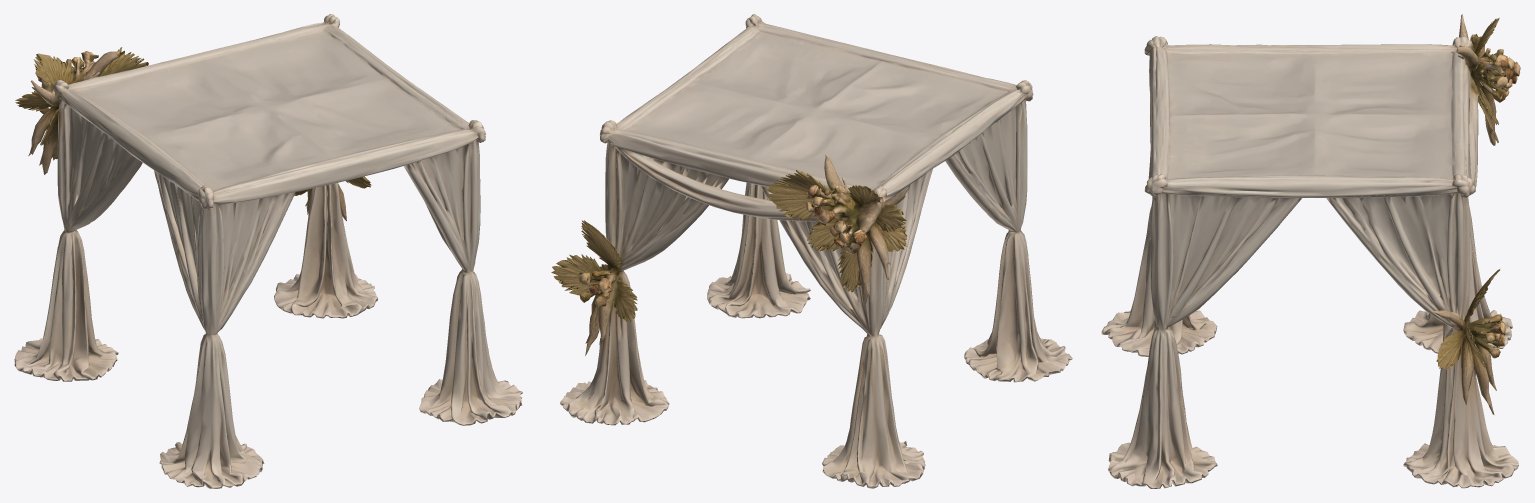
The model's file is chuppah-draped-blush.glb.
3 views of the same model, side by side, from view 1: azimuth 30°, elevation 25°; view 2: azimuth 150°, elevation 25°; view 3: azimuth 270°, elevation 25° (orthographic). The views are drawn at different scales.
Parts seen in each view (by area): view 1: tripo_node_54183c76-7009-456e-b4be-09dc3bfc9a71; view 2: tripo_node_54183c76-7009-456e-b4be-09dc3bfc9a71; view 3: tripo_node_54183c76-7009-456e-b4be-09dc3bfc9a71.
Part boxes in pixels (left/top/right/bottom): tripo_node_54183c76-7009-456e-b4be-09dc3bfc9a71: left=14, top=14, right=522, bottom=488; tripo_node_54183c76-7009-456e-b4be-09dc3bfc9a71: left=551, top=14, right=1072, bottom=488; tripo_node_54183c76-7009-456e-b4be-09dc3bfc9a71: left=1101, top=14, right=1520, bottom=488.
Bounding box in the file's own units: 3.39 × 2.7 × 3.27.
1 material, 1 textured.
